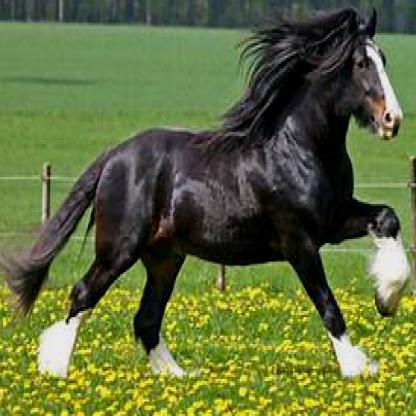horse: (19, 6, 412, 379)
